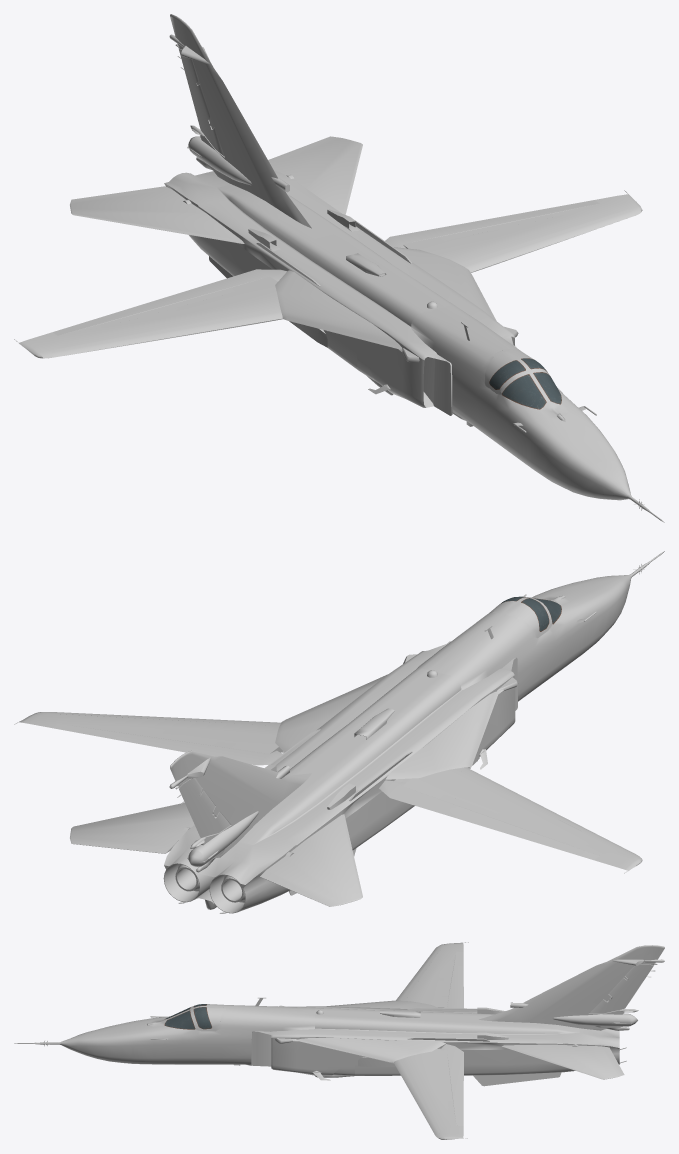
The picture shows the model from 3 angles, top to bottom: view 1: azimuth 30°, elevation 25°; view 2: azimuth 150°, elevation 25°; view 3: azimuth 270°, elevation 25°; orthographic projection. The views are drawn at different scales.
Visible parts, largest first — view 1: SU-24MK; view 2: SU-24MK; view 3: SU-24MK.
Boxes of the visible parts, <box> form: SU-24MK: <box>14,14,664,522</box>; SU-24MK: <box>14,551,664,913</box>; SU-24MK: <box>14,942,664,1139</box>.
Bounding box in the file's own units: 2361 × 1682 × 510.
